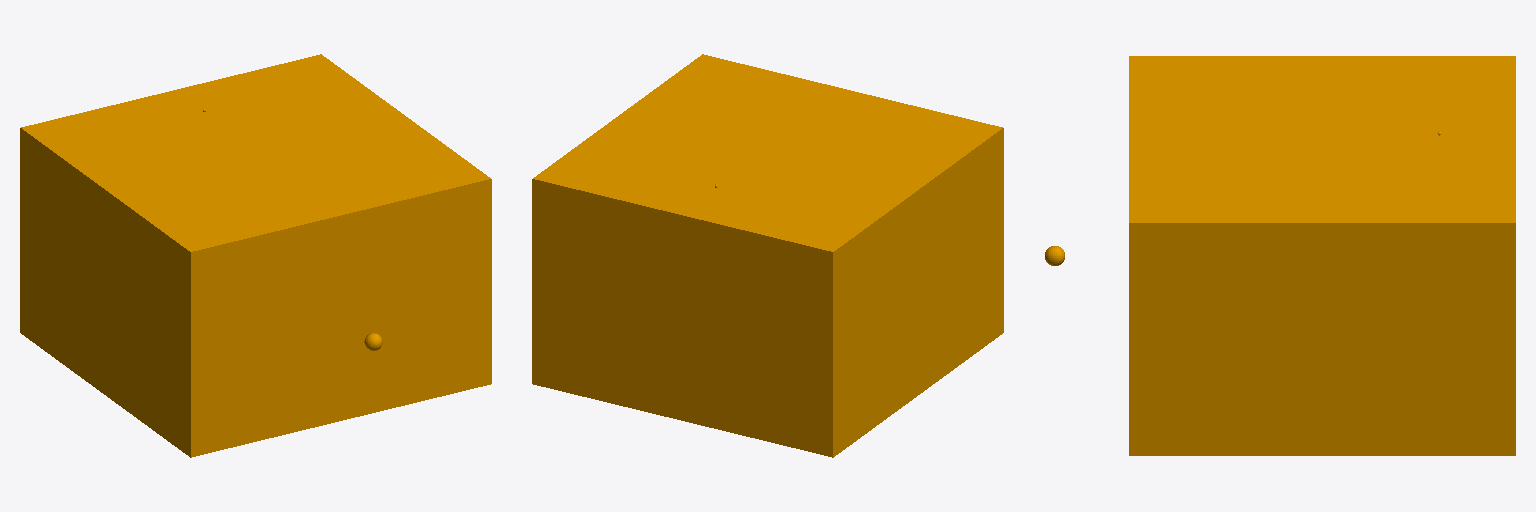
The robot description file, URDF, robot "FR5_V6_DHPGI80":
<?xml version="1.0" encoding="UTF-8"?>
<robot name="FR5_V6_DHPGI80">
  <link name="world"/>
  <!-- base_joint fixes base_link to the environment -->
  <joint name="base_joint" type="fixed">
    <origin rpy="0 0 0" xyz="0 0 0"/>
    <parent link="world"/>
    <child link="FR5_base_link"/>
  </joint>
  <joint name="shoulder_pan_joint" type="revolute">
    <origin xyz="0. 0. 0.152" rpy="0. 0. 0."/>
    <parent link="FR5_base_link"/>
    <child link="FR5_link1"/>
    <axis xyz="0. 0. 1."/>
    <limit lower="-3.1414997" upper="3.1414997" effort="0." velocity="2.1"/>
  </joint>
  <joint name="shoulder_lift_joint" type="revolute">
    <origin xyz="0. 0. 0." rpy="1.5708 0. 0. "/>
    <parent link="FR5_link1"/>
    <child link="FR5_link2"/>
    <axis xyz="0. 0. 1."/>
    <limit lower="-4.7119996" upper="1.5699999" effort="0." velocity="2.1"/>
  </joint>
  <joint name="elbow_joint" type="revolute">
    <origin xyz="-0.425 0. 0. " rpy="0. 0. 0."/>
    <parent link="FR5_link2"/>
    <child link="FR5_link3"/>
    <axis xyz="0. 0. 1."/>
    <limit lower="-3.1414997" upper="3.1414997" effort="0." velocity="3.14"/>
  </joint>
  <joint name="wrist_1_joint" type="revolute">
    <origin xyz="-0.395 0. 0.102" rpy="0. 0. 0."/>
    <parent link="FR5_link3"/>
    <child link="FR5_link4"/>
    <axis xyz="0. 0. 1."/>
    <limit lower="-4.7119996" upper="1.5699999" effort="0." velocity="2.1"/>
  </joint>
  <joint name="wrist_2_joint" type="revolute">
    <origin xyz="0. -0.102 0. " rpy="1.5708 0. 0. "/>
    <parent link="FR5_link4"/>
    <child link="FR5_link5"/>
    <axis xyz="0. 0. 1."/>
    <limit lower="-3.1414997" upper="3.1414997" effort="0." velocity="2.1"/>
  </joint>
  <joint name="wrist_3_joint" type="revolute">
    <origin xyz="0. 0.1 0. " rpy="-1.5708 0. 0. "/>
    <parent link="FR5_link5"/>
    <child link="FR5_link6"/>
    <axis xyz="0. 0. 1."/>
    <limit lower="-3.1414997" upper="3.1414997" effort="0." velocity="2.1"/>
  </joint>
  <joint name="rootJoint_base" type="fixed">
    <origin xyz="0. 0. 0." rpy="0. 0. 0."/>
    <parent link="FR5_link6"/>
    <child link="base"/>
    <limit lower="0." upper="0." effort="0." velocity="0."/>
  </joint>
  <joint name="left_driver_joint" type="prismatic">
    <origin xyz="0. 0. 0." rpy="0. 0. 0."/>
    <parent link="base"/>
    <child link="left_finger"/>
    <axis xyz="-1. 0. 0."/>
    <limit lower="-0.04" upper="0." effort="0." velocity="0.5"/>
  </joint>
  <joint name="right_driver_joint" type="prismatic">
    <origin xyz="0. 0. 0." rpy="0. 0. -3.1415925"/>
    <parent link="base"/>
    <child link="right_finger"/>
    <axis xyz="-1. 0. 0."/>
    <limit lower="-0.04" upper="0." effort="0." velocity="0.5"/>
  </joint>
  
  <link name="FR5_base_link">
    <inertial>
      <origin xyz="0. 0. 0." rpy="0. 0. 0."/>
      <mass value="1.6185"/>
      <inertia ixx="0." ixy="0." ixz="0." iyy="0." iyz="0." izz="0."/>
    </inertial>
    <visual>
      <origin xyz="0. 0. 0." rpy="0. 0. 0."/>
      <geometry>
        <mesh filename="[local-path]/Documents/isaacsim_usd/FR5_V6/meshes/FR5_base_link_visuals.obj" scale="1. 1. 1."/>
      </geometry>
    </visual>
    <visual>
      <origin xyz="0. 0. 0." rpy="0. 0. 0."/>
      <geometry>
        <mesh filename="[local-path]/Documents/isaacsim_usd/FR5_V6/meshes/FR5_base_link_collisions.obj" scale="1. 1. 1."/>
      </geometry>
    </visual>
    <collision>
      <origin xyz="0. 0. 0." rpy="0. 0. 0."/>
      <geometry>
        <mesh filename="[local-path]/Documents/isaacsim_usd/FR5_V6/meshes/FR5_base_link_collisions.obj" scale="1. 1. 1."/>
      </geometry>
    </collision>
  </link>
  <link name="FR5_link1">
    <inertial>
      <origin xyz="0. 0. 0." rpy="0. 0. 0."/>
      <mass value="4.6399999"/>
      <inertia ixx="0." ixy="0." ixz="0." iyy="0." iyz="0." izz="0."/>
    </inertial>
    <visual>
      <origin xyz="0. 0. 0." rpy="0. 0. 0."/>
      <geometry>
        <mesh filename="[local-path]/Documents/isaacsim_usd/FR5_V6/meshes/FR5_link1_visuals.obj" scale="1. 1. 1."/>
      </geometry>
    </visual>
    <visual>
      <origin xyz="0. 0. 0." rpy="0. 0. 0."/>
      <geometry>
        <mesh filename="[local-path]/Documents/isaacsim_usd/FR5_V6/meshes/FR5_link1_collisions.obj" scale="1. 1. 1."/>
      </geometry>
    </visual>
    <collision>
      <origin xyz="0. 0. 0." rpy="0. 0. 0."/>
      <geometry>
        <mesh filename="[local-path]/Documents/isaacsim_usd/FR5_V6/meshes/FR5_link1_collisions.obj" scale="1. 1. 1."/>
      </geometry>
    </collision>
  </link>
  <link name="FR5_link2">
    <inertial>
      <origin xyz="0. 0. 0." rpy="0. 0. 0."/>
      <mass value="10.0799999"/>
      <inertia ixx="0." ixy="0." ixz="0." iyy="0." iyz="0." izz="0."/>
    </inertial>
    <visual>
      <origin xyz="0. 0. 0." rpy="0. 0. 0."/>
      <geometry>
        <mesh filename="[local-path]/Documents/isaacsim_usd/FR5_V6/meshes/FR5_link2_visuals.obj" scale="1. 1. 1."/>
      </geometry>
    </visual>
    <visual>
      <origin xyz="0. 0. 0." rpy="0. 0. 0."/>
      <geometry>
        <mesh filename="[local-path]/Documents/isaacsim_usd/FR5_V6/meshes/FR5_link2_collisions.obj" scale="1. 1. 1."/>
      </geometry>
    </visual>
    <collision>
      <origin xyz="0. 0. 0." rpy="0. 0. 0."/>
      <geometry>
        <mesh filename="[local-path]/Documents/isaacsim_usd/FR5_V6/meshes/FR5_link2_collisions.obj" scale="1. 1. 1."/>
      </geometry>
    </collision>
  </link>
  <link name="FR5_link3">
    <inertial>
      <origin xyz="0. 0. 0." rpy="0. 0. 0."/>
      <mass value="2.71"/>
      <inertia ixx="0." ixy="0." ixz="0." iyy="0." iyz="0." izz="0."/>
    </inertial>
    <visual>
      <origin xyz="0. 0. 0." rpy="0. 0. 0."/>
      <geometry>
        <mesh filename="[local-path]/Documents/isaacsim_usd/FR5_V6/meshes/FR5_link3_visuals.obj" scale="1. 1. 1."/>
      </geometry>
    </visual>
    <visual>
      <origin xyz="0. 0. 0." rpy="0. 0. 0."/>
      <geometry>
        <mesh filename="[local-path]/Documents/isaacsim_usd/FR5_V6/meshes/FR5_link3_collisions.obj" scale="1. 1. 1."/>
      </geometry>
    </visual>
    <collision>
      <origin xyz="0. 0. 0." rpy="0. 0. 0."/>
      <geometry>
        <mesh filename="[local-path]/Documents/isaacsim_usd/FR5_V6/meshes/FR5_link3_collisions.obj" scale="1. 1. 1."/>
      </geometry>
    </collision>
  </link>
  <link name="FR5_link4">
    <inertial>
      <origin xyz="0. 0. 0." rpy="0. 0. 0."/>
      <mass value="1.5599999"/>
      <inertia ixx="0." ixy="0." ixz="0." iyy="0." iyz="0." izz="0."/>
    </inertial>
    <visual>
      <origin xyz="0. 0. 0." rpy="0. 0. 0."/>
      <geometry>
        <mesh filename="[local-path]/Documents/isaacsim_usd/FR5_V6/meshes/FR5_link4_visuals.obj" scale="1. 1. 1."/>
      </geometry>
    </visual>
    <visual>
      <origin xyz="0. 0. 0." rpy="0. 0. 0."/>
      <geometry>
        <mesh filename="[local-path]/Documents/isaacsim_usd/FR5_V6/meshes/FR5_link4_collisions.obj" scale="1. 1. 1."/>
      </geometry>
    </visual>
    <collision>
      <origin xyz="0. 0. 0." rpy="0. 0. 0."/>
      <geometry>
        <mesh filename="[local-path]/Documents/isaacsim_usd/FR5_V6/meshes/FR5_link4_collisions.obj" scale="1. 1. 1."/>
      </geometry>
    </collision>
  </link>
  <link name="FR5_link5">
    <inertial>
      <origin xyz="0. 0. 0." rpy="0. 0. 0."/>
      <mass value="1.5599999"/>
      <inertia ixx="0." ixy="0." ixz="0." iyy="0." iyz="0." izz="0."/>
    </inertial>
    <visual>
      <origin xyz="0. 0. 0." rpy="0. 0. 0."/>
      <geometry>
        <mesh filename="[local-path]/Documents/isaacsim_usd/FR5_V6/meshes/FR5_link5_visuals.obj" scale="1. 1. 1."/>
      </geometry>
    </visual>
    <visual>
      <origin xyz="0. 0. 0." rpy="0. 0. 0."/>
      <geometry>
        <mesh filename="[local-path]/Documents/isaacsim_usd/FR5_V6/meshes/FR5_link5_collisions.obj" scale="1. 1. 1."/>
      </geometry>
    </visual>
    <collision>
      <origin xyz="0. 0. 0." rpy="0. 0. 0."/>
      <geometry>
        <mesh filename="[local-path]/Documents/isaacsim_usd/FR5_V6/meshes/FR5_link5_collisions.obj" scale="1. 1. 1."/>
      </geometry>
    </collision>
  </link>
  <link name="FR5_link6">
    <inertial>
      <origin xyz="0. 0. 0." rpy="0. 0. 0."/>
      <mass value="0.36"/>
      <inertia ixx="0." ixy="0." ixz="0." iyy="0." iyz="0." izz="0."/>
    </inertial>
    <visual>
      <origin xyz="0. 0. 0." rpy="0. 0. 0."/>
      <geometry>
        <mesh filename="[local-path]/Documents/isaacsim_usd/FR5_V6/meshes/FR5_link6_visuals.obj" scale="1. 1. 1."/>
      </geometry>
    </visual>
    <visual>
      <origin xyz="0. 0. 0." rpy="0. 0. 0."/>
      <geometry>
        <mesh filename="[local-path]/Documents/isaacsim_usd/FR5_V6/meshes/FR5_link6_collisions.obj" scale="1. 1. 1."/>
      </geometry>
    </visual>
    <collision>
      <origin xyz="0. 0. 0." rpy="0. 0. 0."/>
      <geometry>
        <mesh filename="[local-path]/Documents/isaacsim_usd/FR5_V6/meshes/FR5_link6_collisions.obj" scale="1. 1. 1."/>
      </geometry>
    </collision>
  </link>
  <link name="base">
    <visual>
      <origin xyz="0. 0. 0.0465" rpy="0. 0. 0."/>
      <geometry>
        <box size="0.19 0.124 0.186"/>
      </geometry>
    </visual>
    <visual>
      <origin xyz="0. 0. 0.007" rpy="0. 0. 3.1415927"/>
      <geometry>
        <mesh filename="[local-path]/Documents/isaacsim_usd/FR5_V6/meshes/visuals__geom_0.obj" scale="1. 1. 1."/>
      </geometry>
    </visual>
    <visual>
      <origin xyz="0. 0.065 -0.01 " rpy="0. 0. 0."/>
      <geometry>
        <sphere radius="0.001"/>
      </geometry>
    </visual>
    <visual>
      <origin xyz="0. 0. 0.175" rpy="0. 0. 0."/>
      <geometry>
        <sphere radius="0.005"/>
      </geometry>
    </visual>
    <collision>
      <origin xyz="0. 0. 0.0465" rpy="0. 0. 0."/>
      <geometry>
        <box size="0.19 0.124 0.186"/>
      </geometry>
    </collision>
  </link>
  <link name="left_finger">
    <visual>
      <origin xyz="0. 0. 0." rpy="0. 0. 0."/>
      <geometry>
        <mesh filename="[local-path]/Documents/isaacsim_usd/FR5_V6/meshes/collisions__geom_5.obj" scale="1. 1. 1."/>
      </geometry>
    </visual>
    <visual>
      <origin xyz="0. 0. 0." rpy="0. 0. 0."/>
      <geometry>
        <mesh filename="[local-path]/Documents/isaacsim_usd/FR5_V6/meshes/visuals__geom_4.obj" scale="1. 1. 1."/>
      </geometry>
    </visual>
    <collision>
      <origin xyz="0. 0. 0." rpy="0. 0. 0."/>
      <geometry>
        <mesh filename="[local-path]/Documents/isaacsim_usd/FR5_V6/meshes/collisions__geom_5.obj" scale="1. 1. 1."/>
      </geometry>
    </collision>
  </link>
  <link name="right_finger">
    <visual>
      <origin xyz="0. 0. 0." rpy="0. 0. 0."/>
      <geometry>
        <mesh filename="[local-path]/Documents/isaacsim_usd/FR5_V6/meshes/collisions__geom_3.obj" scale="1. 1. 1."/>
      </geometry>
    </visual>
    <visual>
      <origin xyz="0. 0. 0." rpy="0. 0. 0."/>
      <geometry>
        <mesh filename="[local-path]/Documents/isaacsim_usd/FR5_V6/meshes/visuals__geom_2.obj" scale="1. 1. 1."/>
      </geometry>
    </visual>
    <collision>
      <origin xyz="0. 0. 0." rpy="0. 0. 0."/>
      <geometry>
        <mesh filename="[local-path]/Documents/isaacsim_usd/FR5_V6/meshes/collisions__geom_3.obj" scale="1. 1. 1."/>
      </geometry>
    </collision>
  </link>
</robot>

--- Facts derived from the render (not from the file) ---
3 views of the same robot in one strip: view 1: azimuth 30°, elevation 25°; view 2: azimuth 150°, elevation 25°; view 3: azimuth 270°, elevation 25° (orthographic).
Robot: FR5_V6_DHPGI80 — 11 links, 10 joints (6 revolute, 2 prismatic, 2 fixed); root link world; default pose: every joint at zero.
Links seen in each view (by area): view 1: base; view 2: base; view 3: base.
Boxes of the visible links, x1=… form: base: x1=20, y1=54, x2=491, y2=457; base: x1=532, y1=54, x2=1003, y2=457; base: x1=1045, y1=56, x2=1515, y2=455.
Bounding box of the posed robot: 0.19 × 0.2265 × 0.128 m (x, y, z).
Geometry: only primitive shapes (box / cylinder / sphere) drawn; not drawn: 19 mesh visuals (reference in a form the renderer does not follow).